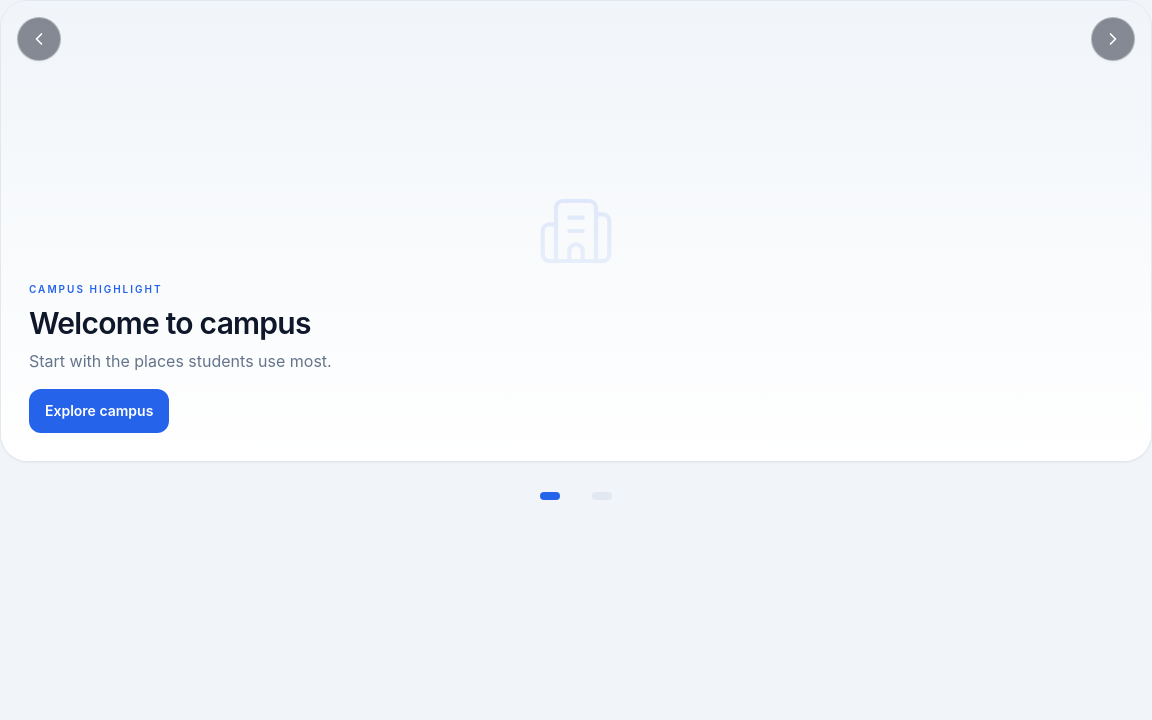
Scenario: HomeHeroCarousel › advances after five seconds and resets that timer after interaction
Click the button named "Show campus highlight 1" at (550, 496), box top-left (528, 474), bottom-right (572, 518)
Wait 5000 ms
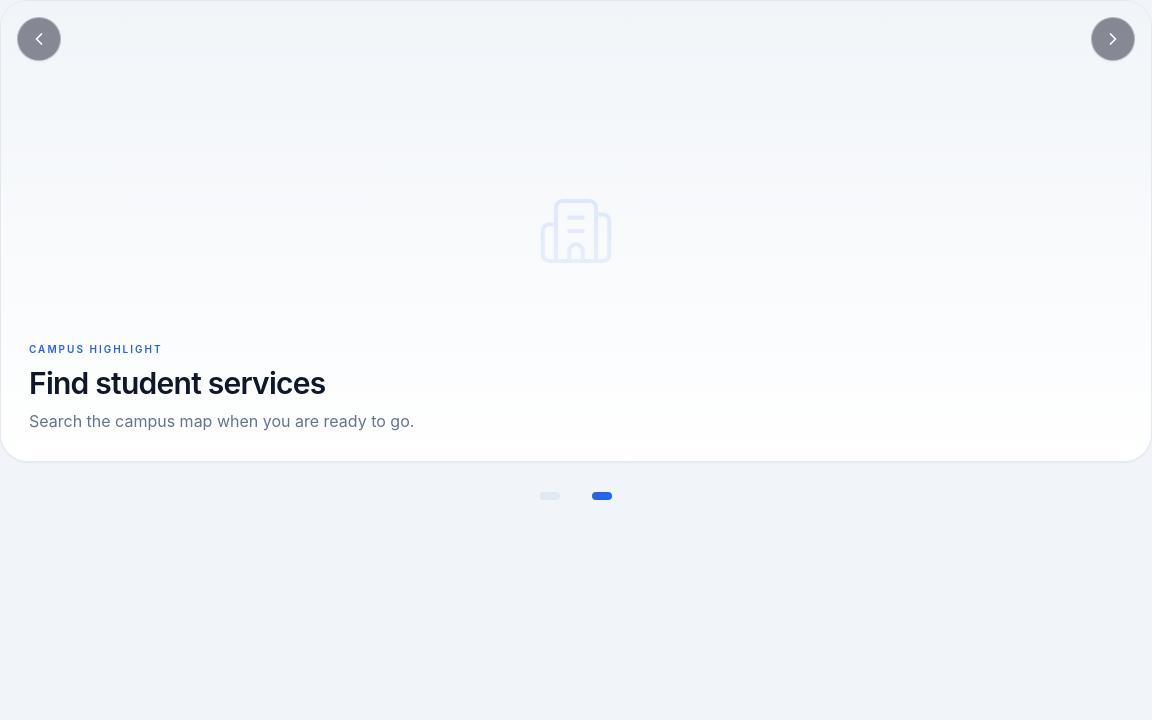
Expected: the element named "Campus highlight 2 of 2" is shown
